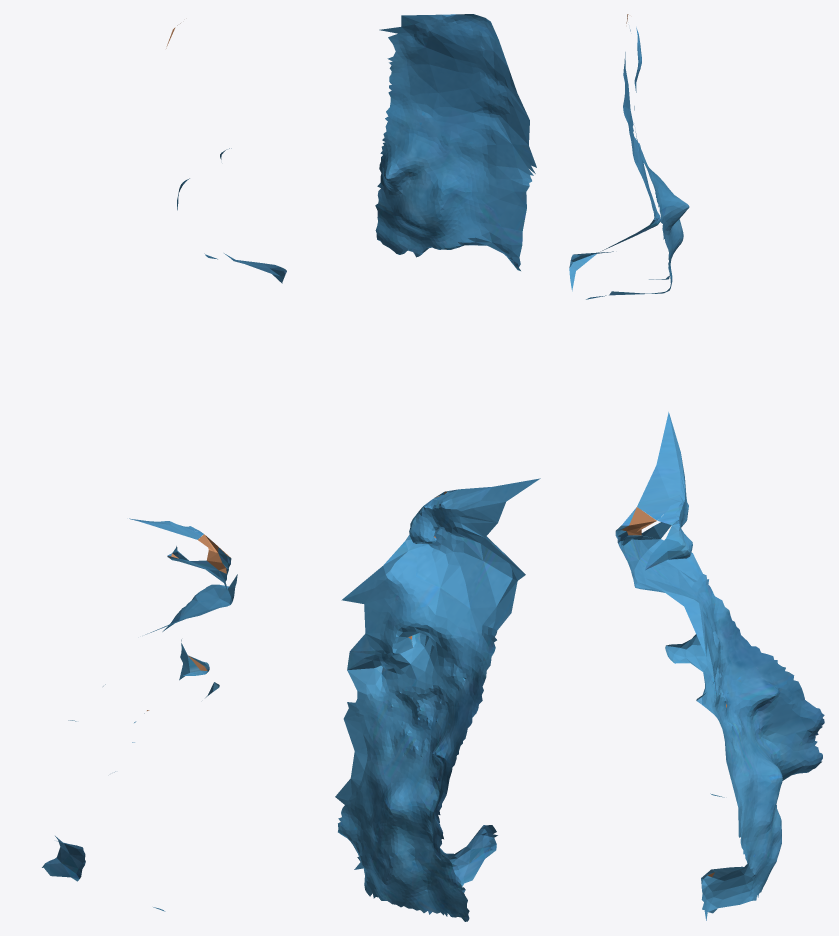
Rendered from tile_0550.gltf.
3 renders of one model, left to right at view 1: azimuth 30°, elevation 25°; view 2: azimuth 150°, elevation 25°; view 3: azimuth 270°, elevation 25°, orthographic. The views are drawn at different scales.
Visible parts, largest first — view 1: defaultobject; view 2: defaultobject; view 3: defaultobject.
Part boxes in pixels (x1=…): defaultobject: x1=42, y1=23, x2=286, y2=911; defaultobject: x1=335, y1=14, x2=540, y2=921; defaultobject: x1=569, y1=14, x2=824, y2=920.
Bounding box in the file's own units: 0.3419 × 1.53 × 0.4102.
Materials: 2 (2 with a texture image).
